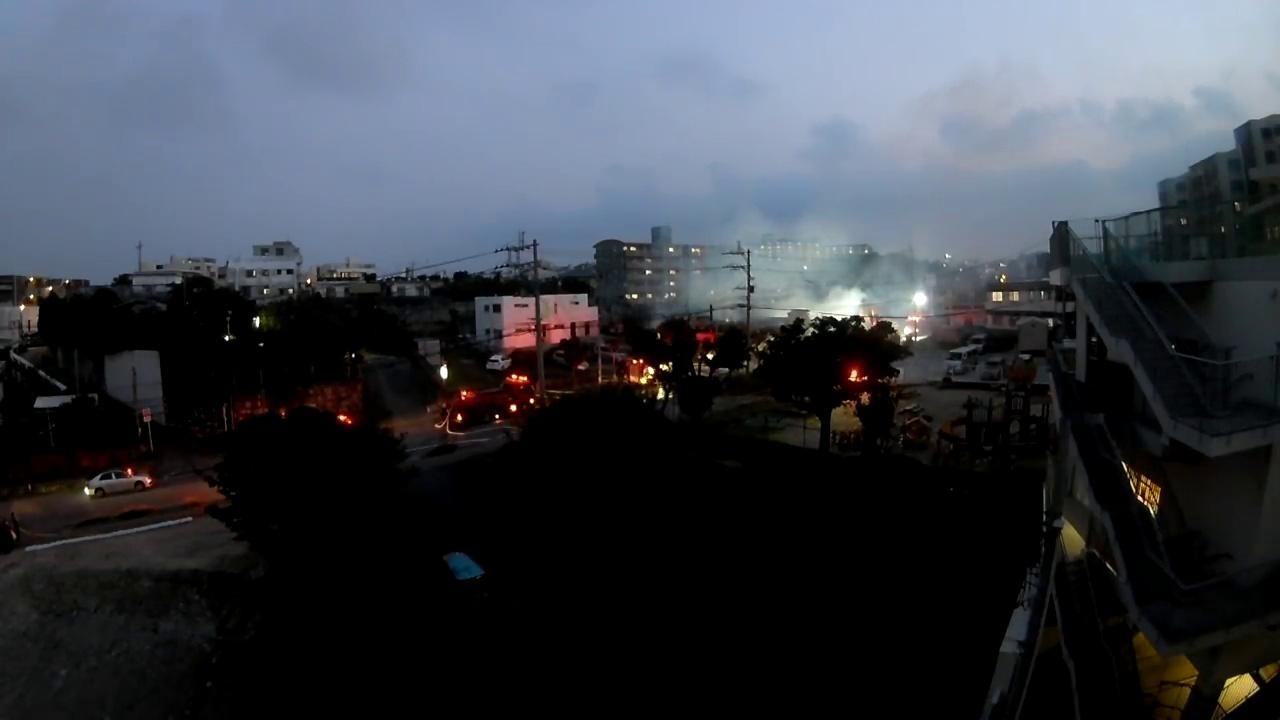smoke: (766, 282, 902, 316)
